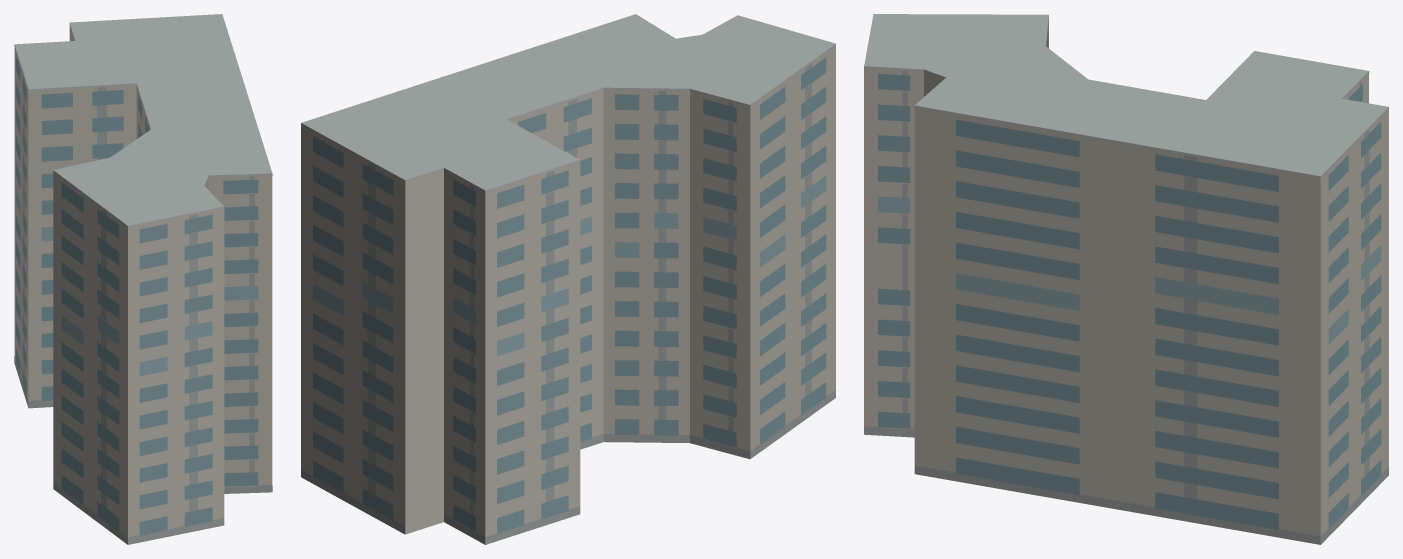
File: residential-aba79d97-a181-43ab-8911-f7606ce11f8a.glb
3 views of the same model, side by side, from view 1: azimuth 30°, elevation 25°; view 2: azimuth 150°, elevation 25°; view 3: azimuth 270°, elevation 25° (orthographic). The views are drawn at different scales.
Visible parts, largest first — view 1: residential-aba79d97-a181-43ab-8911-f7606ce11f8a.tmp; view 2: residential-aba79d97-a181-43ab-8911-f7606ce11f8a.tmp; view 3: residential-aba79d97-a181-43ab-8911-f7606ce11f8a.tmp.
Boxes of the visible parts, box(x1,y1,x2,y2) form: residential-aba79d97-a181-43ab-8911-f7606ce11f8a.tmp: box(14, 14, 272, 544); residential-aba79d97-a181-43ab-8911-f7606ce11f8a.tmp: box(301, 14, 835, 544); residential-aba79d97-a181-43ab-8911-f7606ce11f8a.tmp: box(864, 14, 1388, 544).
Bounding box in the file's own units: 33.07 × 35 × 45.17.
